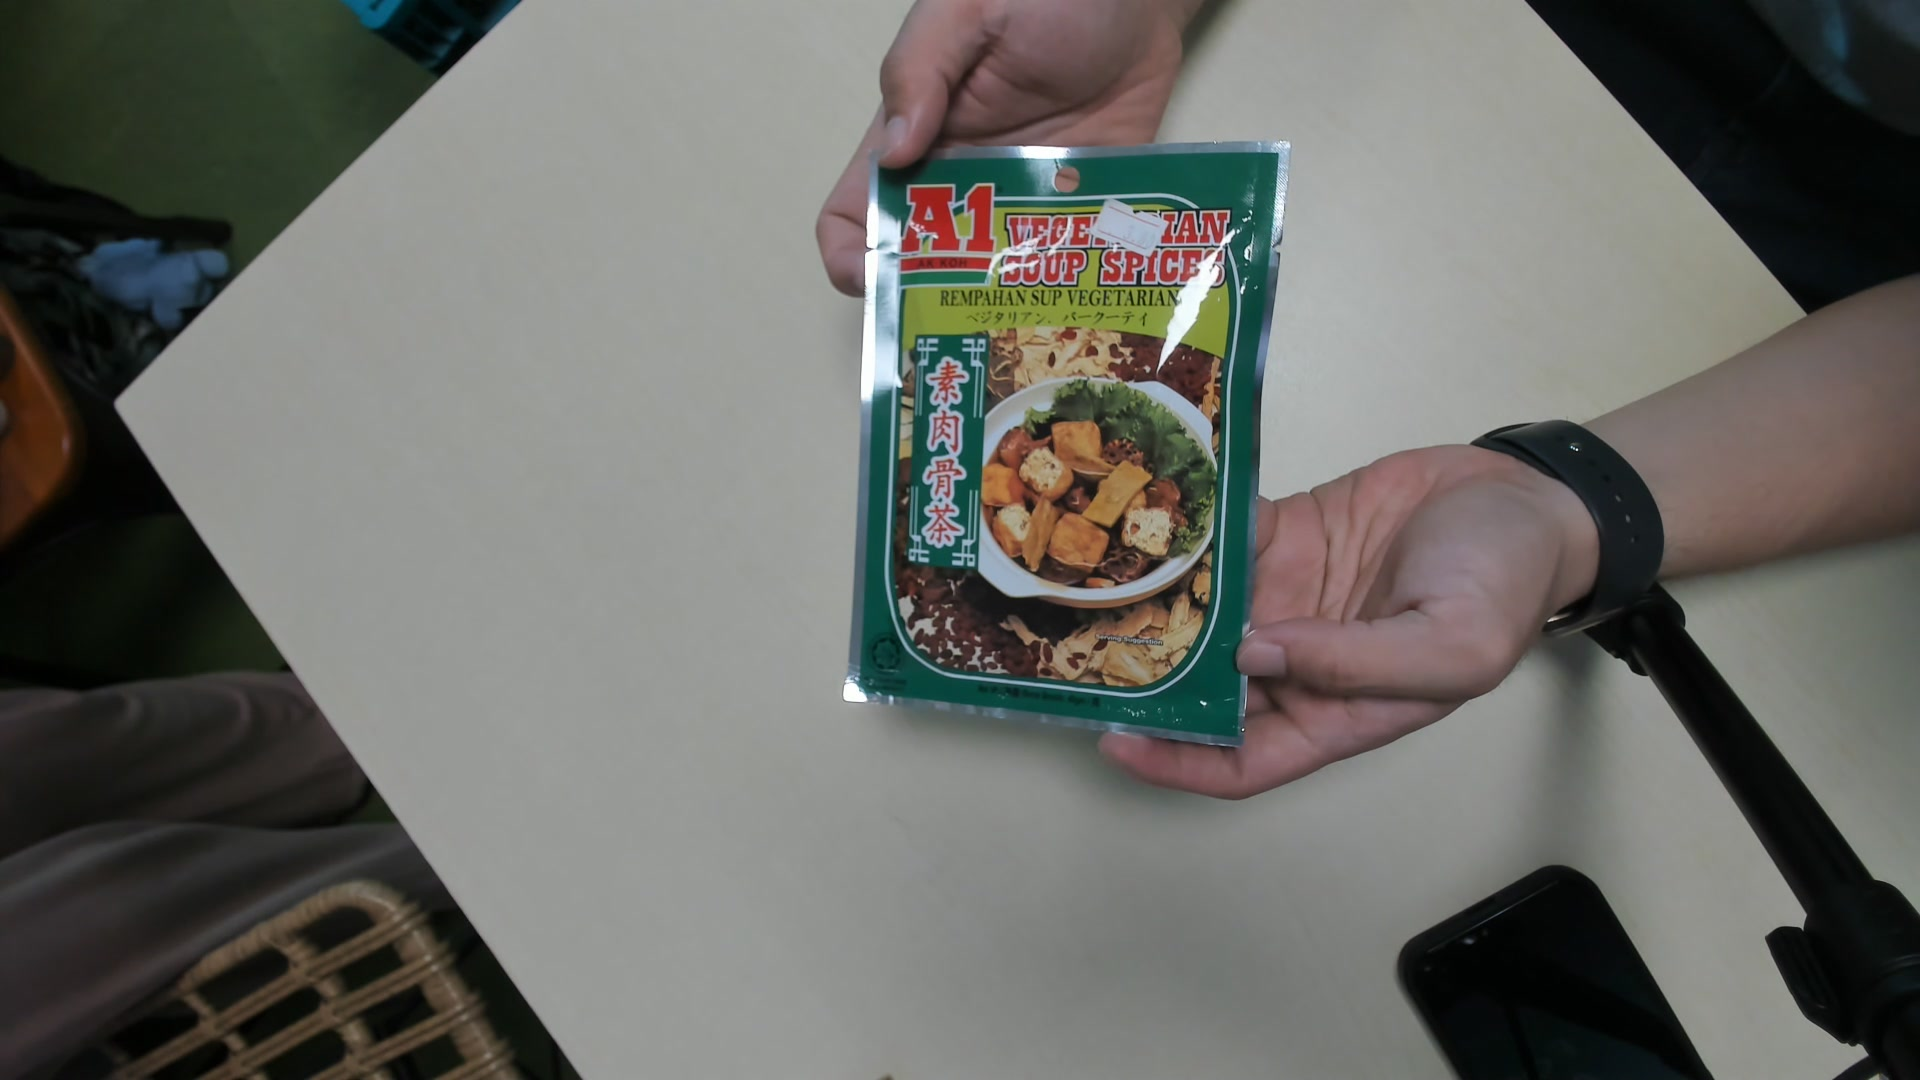OtherSauceDressing_0-99g_NonHalal_NonHealthy: (844, 146, 1292, 753)
